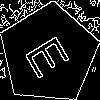E: (23, 28, 78, 81)
